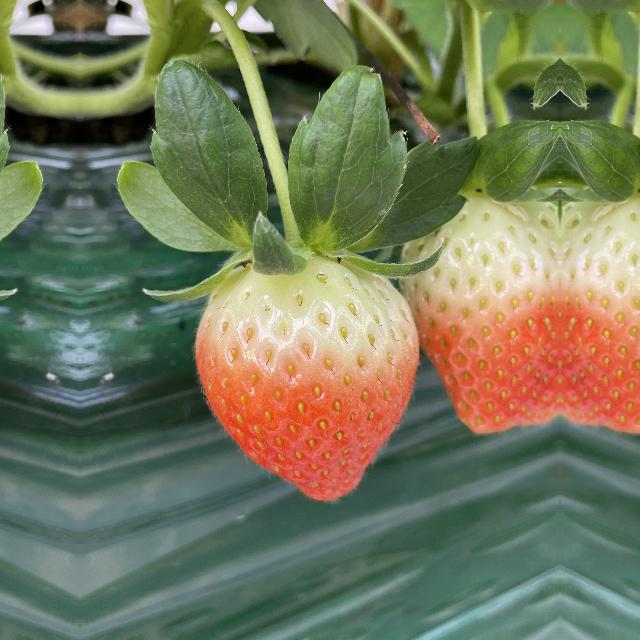Health_50: (405, 174, 559, 430), (561, 173, 640, 430)
Health_75: (188, 236, 424, 518)
